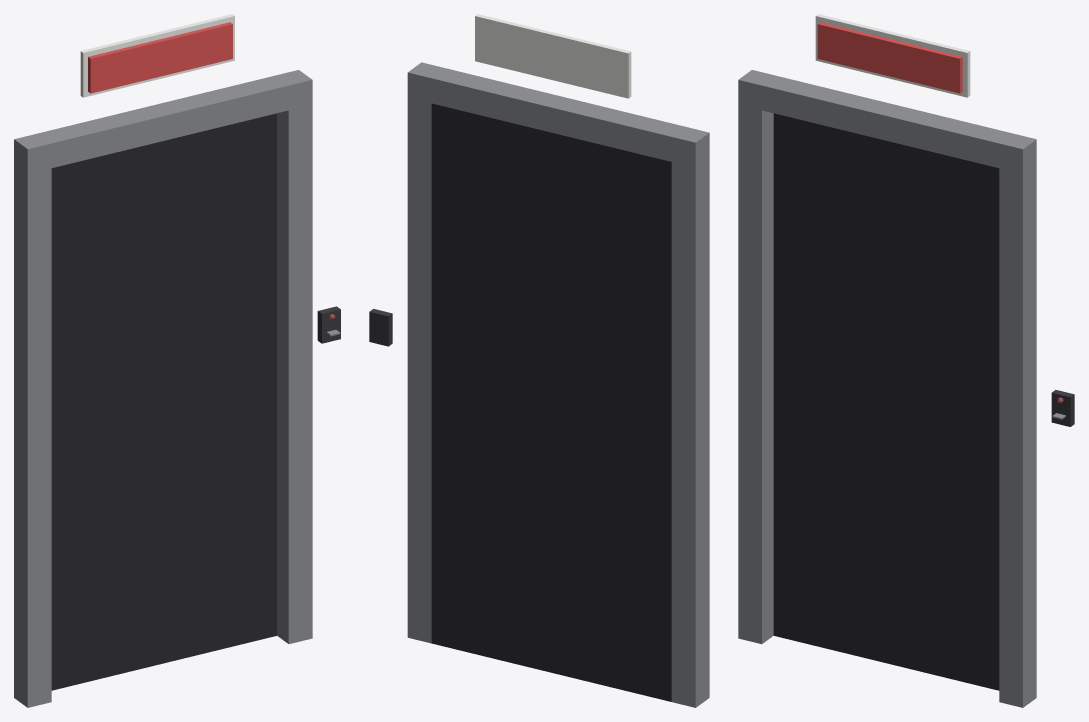
The model's file is HJ_PuertaServicio.fbx.
3 views of the same model, side by side, from view 1: azimuth 30°, elevation 25°; view 2: azimuth 150°, elevation 25°; view 3: azimuth 330°, elevation 25° (orthographic).
Parts seen in each view (by area): view 1: HJ_PuertaServicio; view 2: HJ_PuertaServicio; view 3: HJ_PuertaServicio.
Boxes of the visible parts, x1=… form: HJ_PuertaServicio: x1=14, y1=14, x2=340, y2=707; HJ_PuertaServicio: x1=369, y1=14, x2=709, y2=707; HJ_PuertaServicio: x1=738, y1=14, x2=1074, y2=707.
Size of the model in its own units: 1.36 by 2.54 by 0.1.
